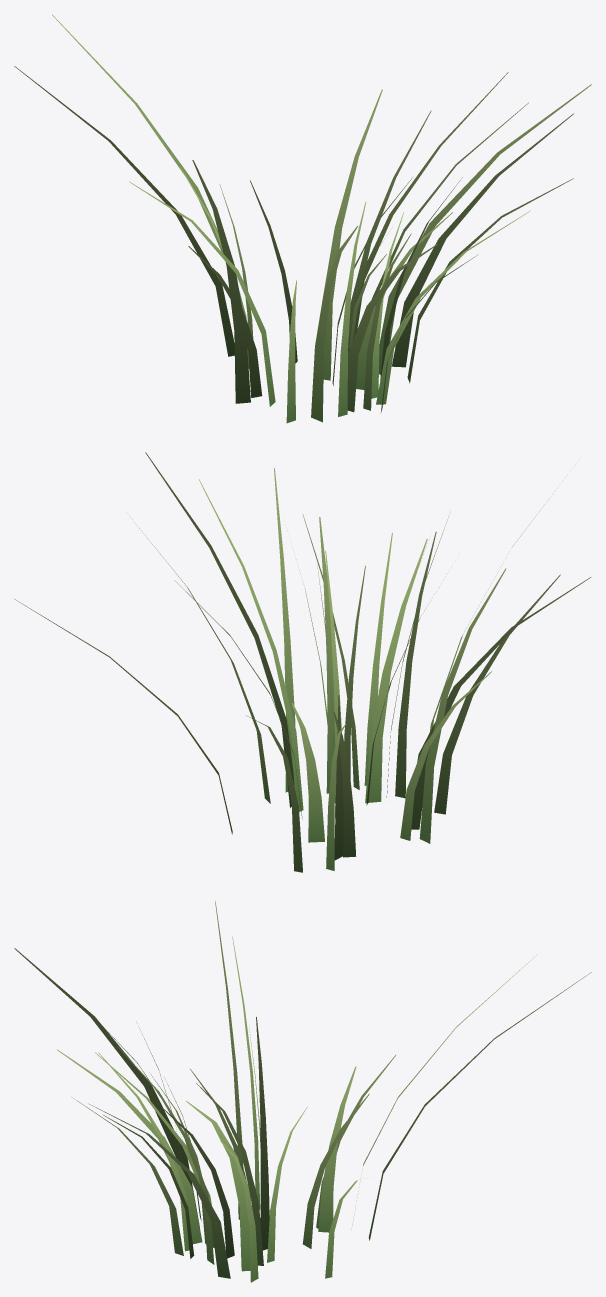
Rendered from grass-meadow.glb.
3 views of the same model, one above another, from view 1: azimuth 30°, elevation 25°; view 2: azimuth 150°, elevation 25°; view 3: azimuth 270°, elevation 25° (orthographic). The views are drawn at different scales.
Visible parts, largest first — view 1: grass-meadow; view 2: grass-meadow; view 3: grass-meadow.
Part boxes in pixels (x1=…): grass-meadow: x1=14, y1=14, x2=591, y2=423; grass-meadow: x1=14, y1=452, x2=591, y2=872; grass-meadow: x1=14, y1=901, x2=591, y2=1282.
Size of the model in its own units: 0.768 by 0.4388 by 0.8945.
